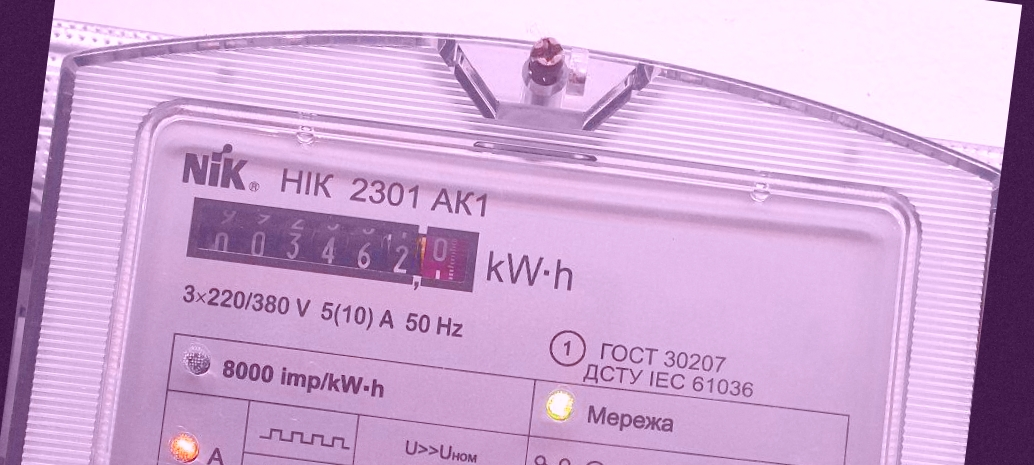0: (246, 226, 268, 257), (429, 234, 449, 264), (209, 228, 230, 253)
2: (389, 241, 411, 275)
3: (281, 229, 303, 263)
4: (318, 232, 339, 266)
6: (351, 237, 375, 273)
9: (215, 206, 237, 228)
screen: (170, 183, 491, 312)
